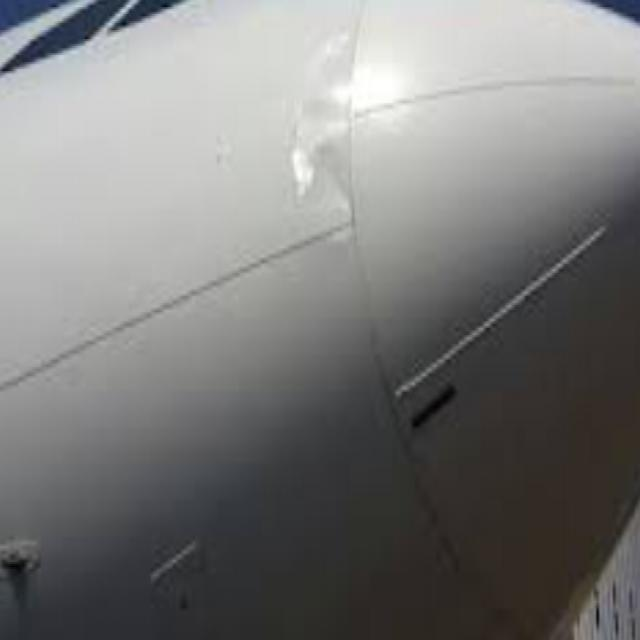dents: (286, 36, 389, 259)
